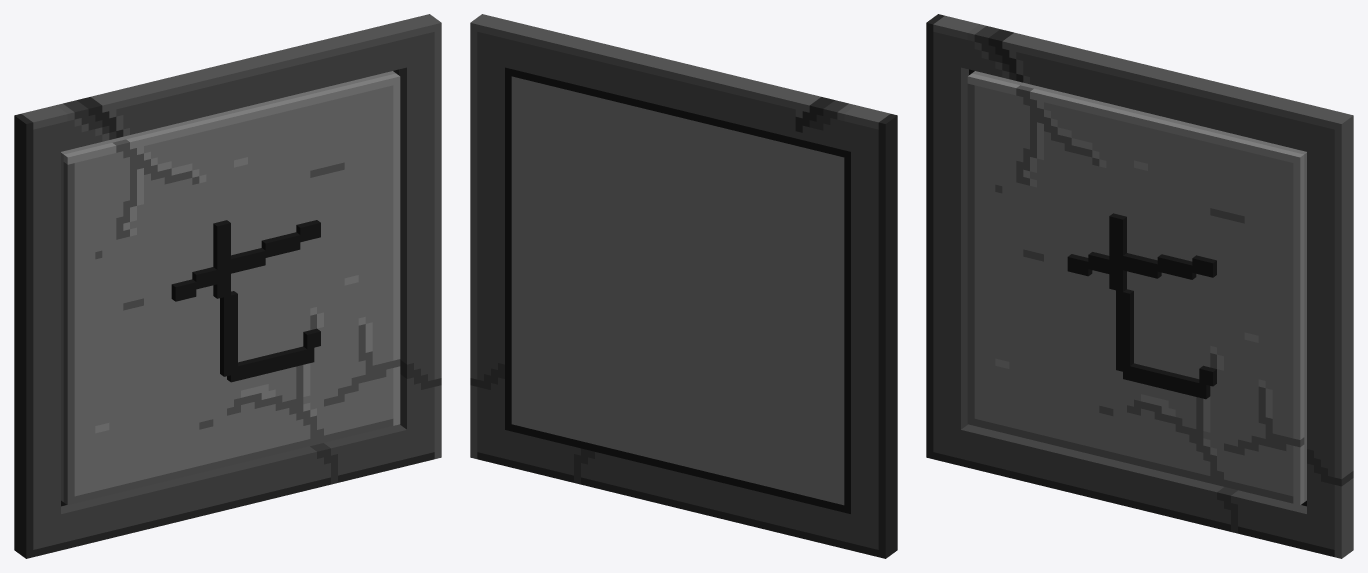
Rendered from balpan_7.obj.
3 renders of one model, left to right at view 1: azimuth 30°, elevation 25°; view 2: azimuth 150°, elevation 25°; view 3: azimuth 330°, elevation 25°, orthographic.
Parts seen in each view (by area): view 1: balpan_7; view 2: balpan_7; view 3: balpan_7.
Boxes of the visible parts, x1,y1,x2,y2 form: balpan_7: (14,14,441,558); balpan_7: (470,14,897,558); balpan_7: (926,14,1353,558).
Size of the model in its own units: 60 by 60 by 4.
1 material, 1 textured.
